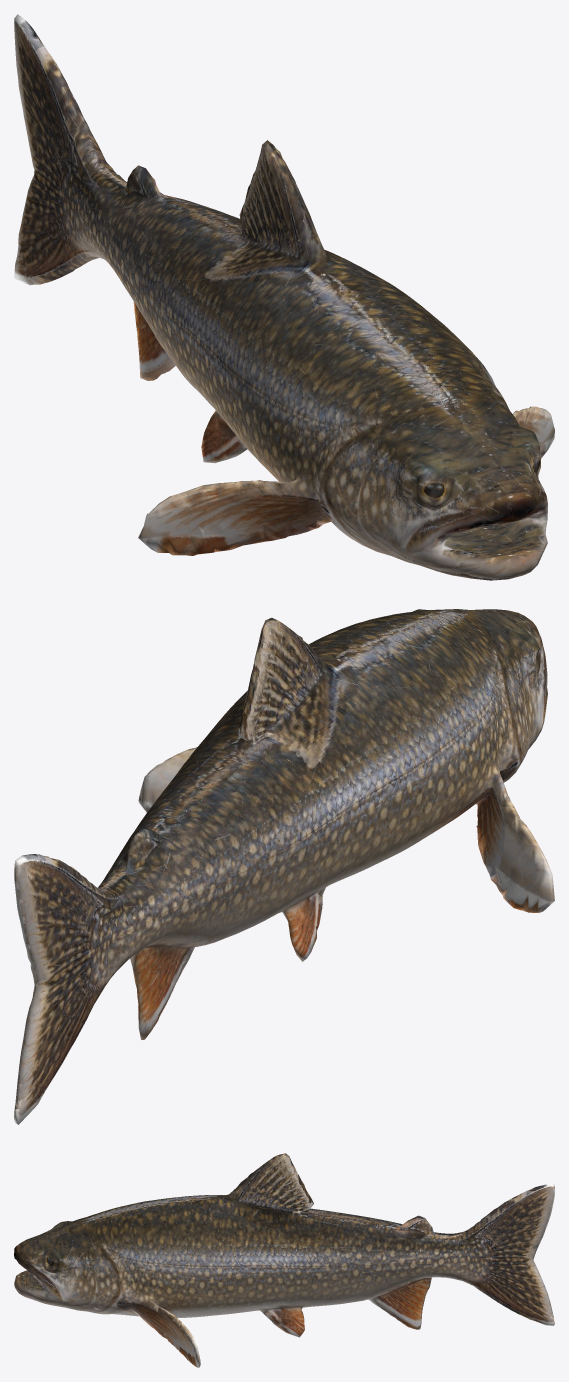
File: fish_laketrout.glb
3 renders of one model, top to bottom at view 1: azimuth 30°, elevation 25°; view 2: azimuth 150°, elevation 25°; view 3: azimuth 270°, elevation 25°, orthographic. The views are drawn at different scales.
Parts seen in each view (by area): view 1: geometry_0; view 2: geometry_0; view 3: geometry_0.
Part boxes in pixels (<box>): geometry_0: <box>14,14,554,580</box>; geometry_0: <box>14,609,554,1124</box>; geometry_0: <box>14,1153,554,1367</box>.
Bounding box in the file's own units: 0.9344 × 0.7038 × 1.96.
Materials: 1 (1 with a texture image).
